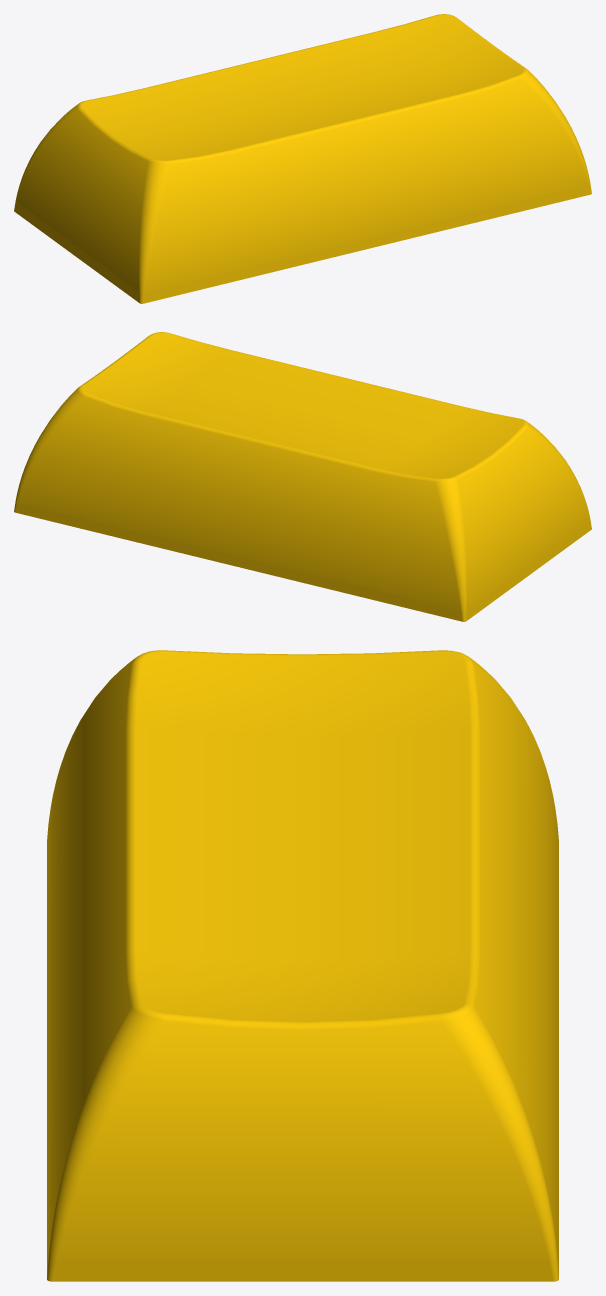
3 views of the same model, one above another, from view 1: azimuth 30°, elevation 25°; view 2: azimuth 150°, elevation 25°; view 3: azimuth 270°, elevation 25° (orthographic). The views are drawn at different scales.
Parts seen in each view (by area): view 1: Body56; view 2: Body56; view 3: Body56.
Part boxes in pixels (<box>): Body56: <box>14,14,591,303</box>; Body56: <box>14,332,591,621</box>; Body56: <box>47,650,558,1281</box>.
Bounding box in the file's own units: 37.31 × 9.05 × 18.31.
